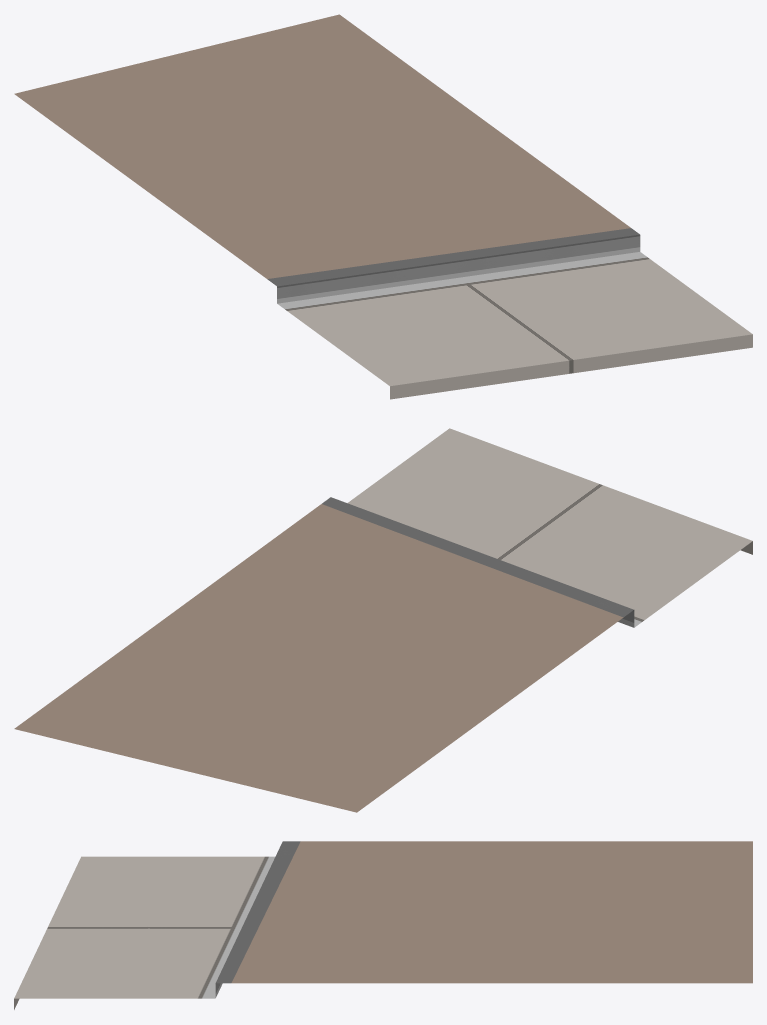
File: island_side_mesh.fbx
3 views of the same model, one above another, from view 1: azimuth 30°, elevation 25°; view 2: azimuth 150°, elevation 25°; view 3: azimuth 270°, elevation 25° (orthographic). The views are drawn at different scales.
Visible parts, largest first — view 1: island_side_mesh; view 2: island_side_mesh; view 3: island_side_mesh.
Boxes of the visible parts, x1,y1,x2,y2 form: island_side_mesh: [14, 14, 752, 399]; island_side_mesh: [14, 428, 752, 812]; island_side_mesh: [14, 841, 752, 1009].
Bounding box in the file's own units: 5 × 0.4479 × 11.
1 material, 1 textured.
